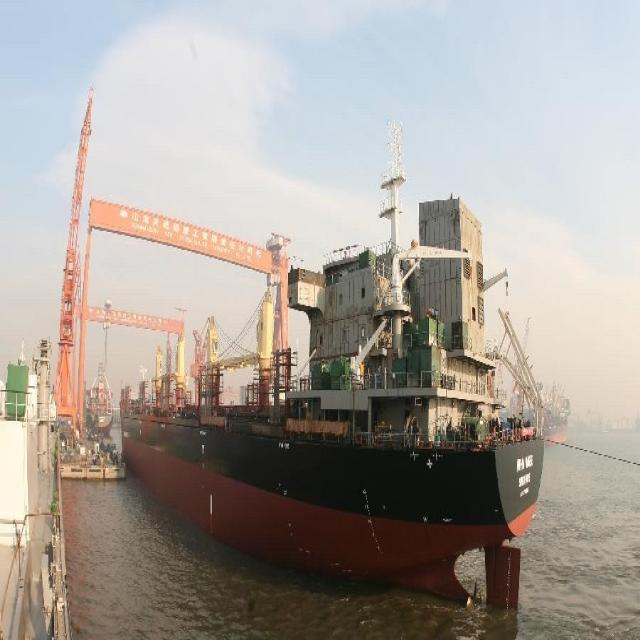cargoship: (119, 200, 558, 588)
